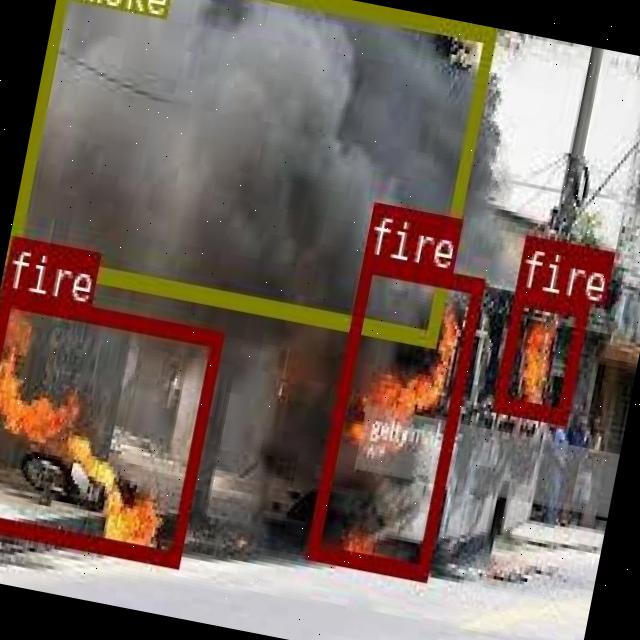fire: (0, 286, 222, 564), (306, 253, 482, 578), (492, 288, 588, 422)
smoke: (6, 0, 496, 342)
